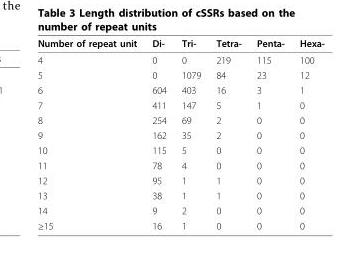table: (36, 37, 323, 230)
table column: (36, 37, 143, 230), (248, 37, 291, 230), (207, 37, 248, 230), (173, 37, 207, 230), (291, 37, 323, 230), (143, 37, 173, 230)
table column header: (36, 37, 323, 51)
table row: (36, 51, 323, 67), (36, 67, 323, 82), (36, 82, 323, 97), (36, 97, 323, 112), (36, 112, 323, 127), (36, 127, 323, 142), (36, 142, 323, 157), (36, 157, 323, 172), (36, 172, 323, 187), (36, 187, 323, 202), (36, 202, 323, 217), (36, 37, 323, 51), (36, 217, 323, 230)
